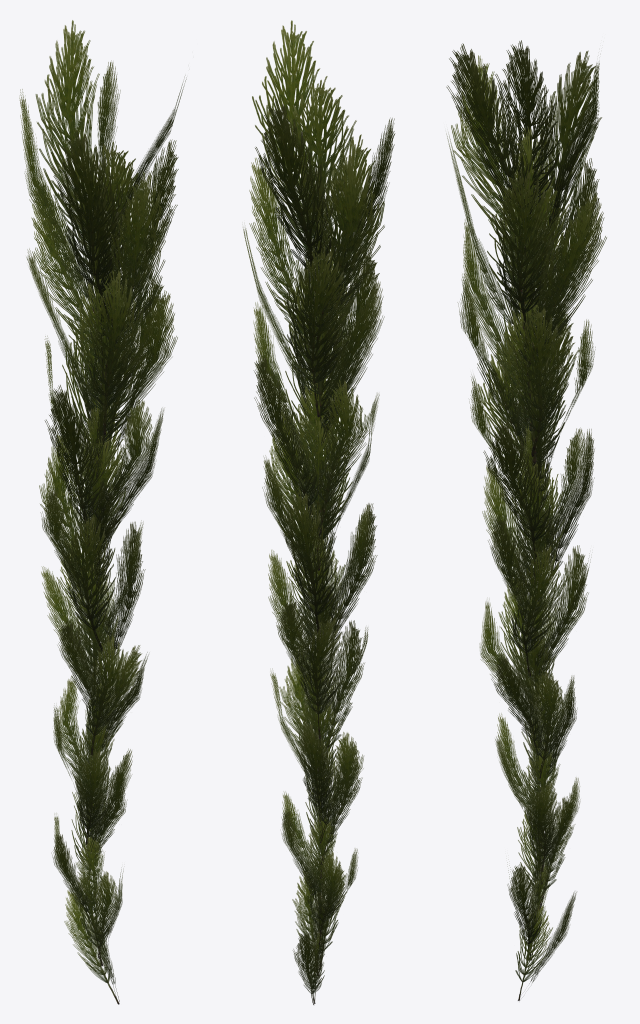
The model's file is seagrass4.glb.
3 renders of one model, left to right at view 1: azimuth 30°, elevation 25°; view 2: azimuth 150°, elevation 25°; view 3: azimuth 270°, elevation 25°, orthographic. The views are drawn at different scales.
Parts seen in each view (by area): view 1: SeaWeed01_high; view 2: SeaWeed01_high; view 3: SeaWeed01_high.
Boxes of the visible parts, left/top/right/bottom form: SeaWeed01_high: left=19, top=20, right=186, bottom=1004; SeaWeed01_high: left=243, top=20, right=395, bottom=1004; SeaWeed01_high: left=446, top=40, right=606, bottom=1000.
Bounding box in the file's own units: 590 × 3313 × 597.
Materials: 1 (1 with a texture image).
